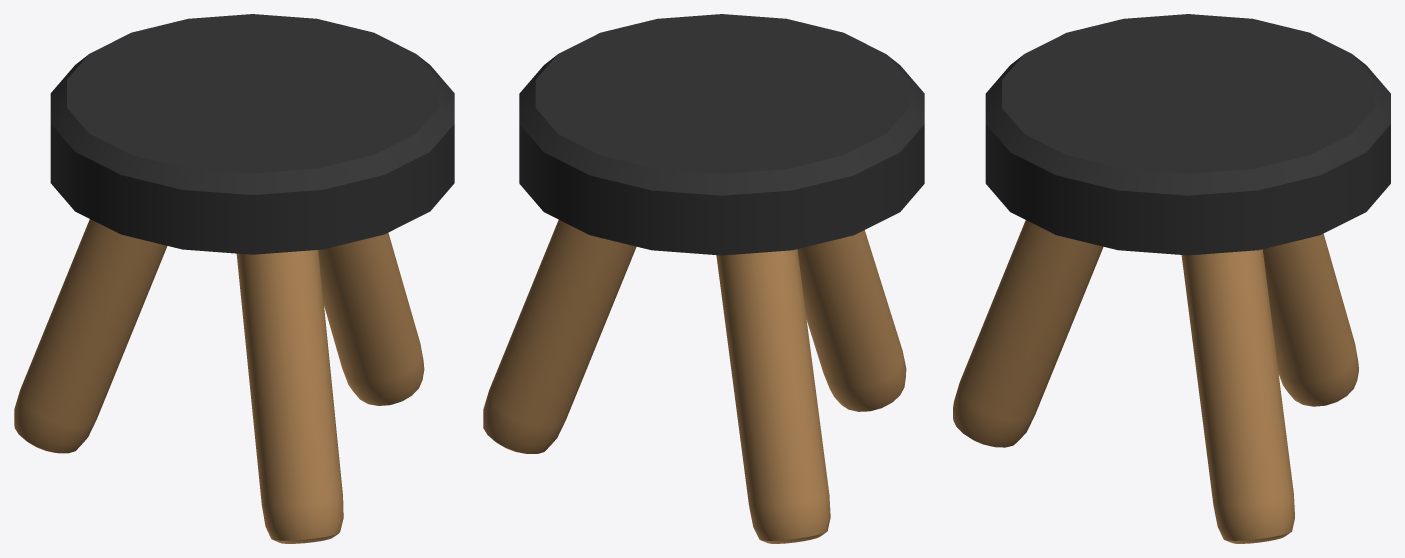
The model's file is Banco.FBX.
The picture shows the model from 3 angles, left to right: view 1: azimuth 30°, elevation 25°; view 2: azimuth 150°, elevation 25°; view 3: azimuth 270°, elevation 25°; orthographic projection.
Visible parts, largest first — view 1: Cylinder001; view 2: Cylinder001; view 3: Cylinder001.
Boxes of the visible parts, bbox=[...] form: Cylinder001: bbox=[14, 14, 454, 543]; Cylinder001: bbox=[483, 14, 924, 543]; Cylinder001: bbox=[953, 14, 1390, 543].
Bounding box in the file's own units: 79.2 × 79.35 × 73.83.
